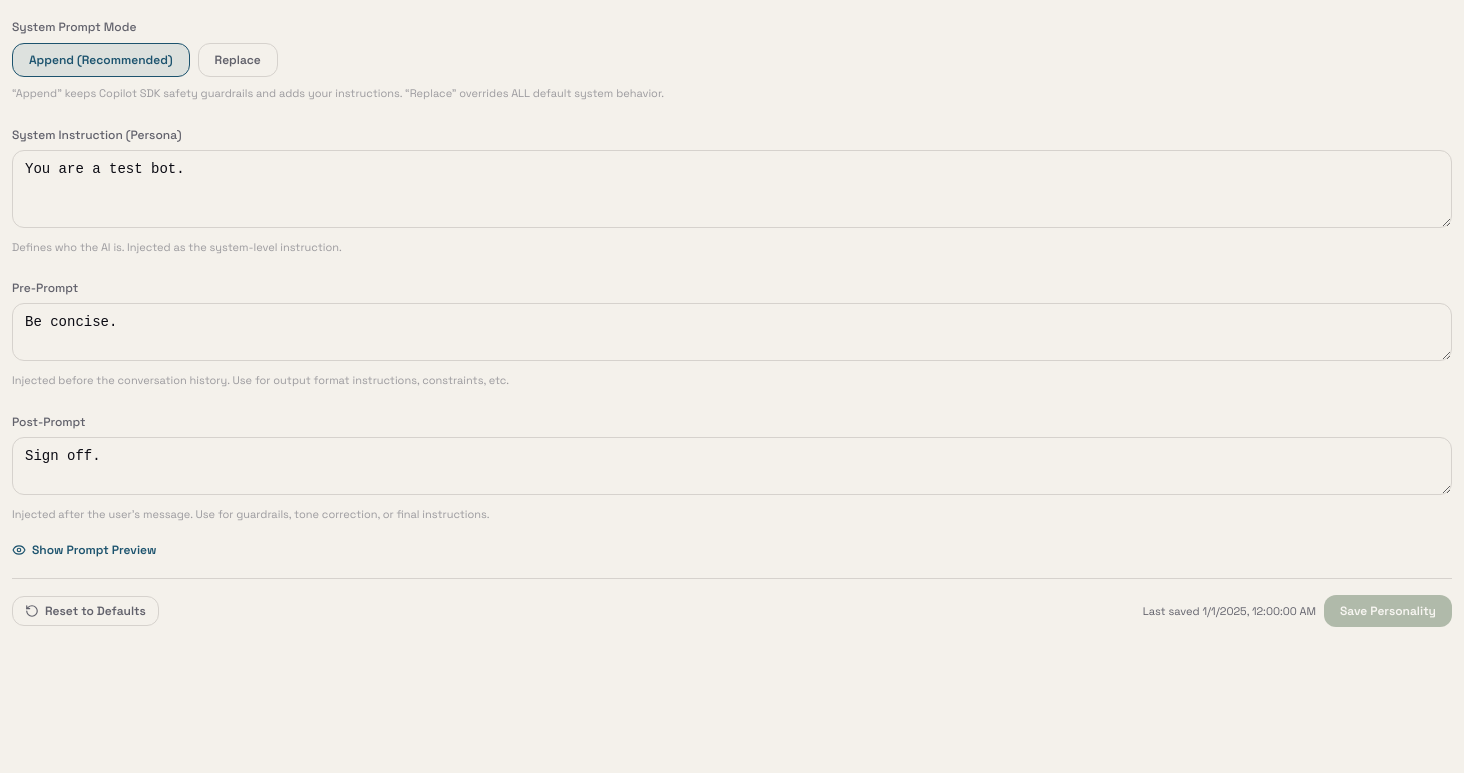
Test: PersonalityPanel › shows preview with SDK guardrails header in append mode
This screenshot has width=1464, height=773.
Open preview
Click the button "Show Prompt Preview" at (84, 550), box [12,542,156,558]
(page scrolled)
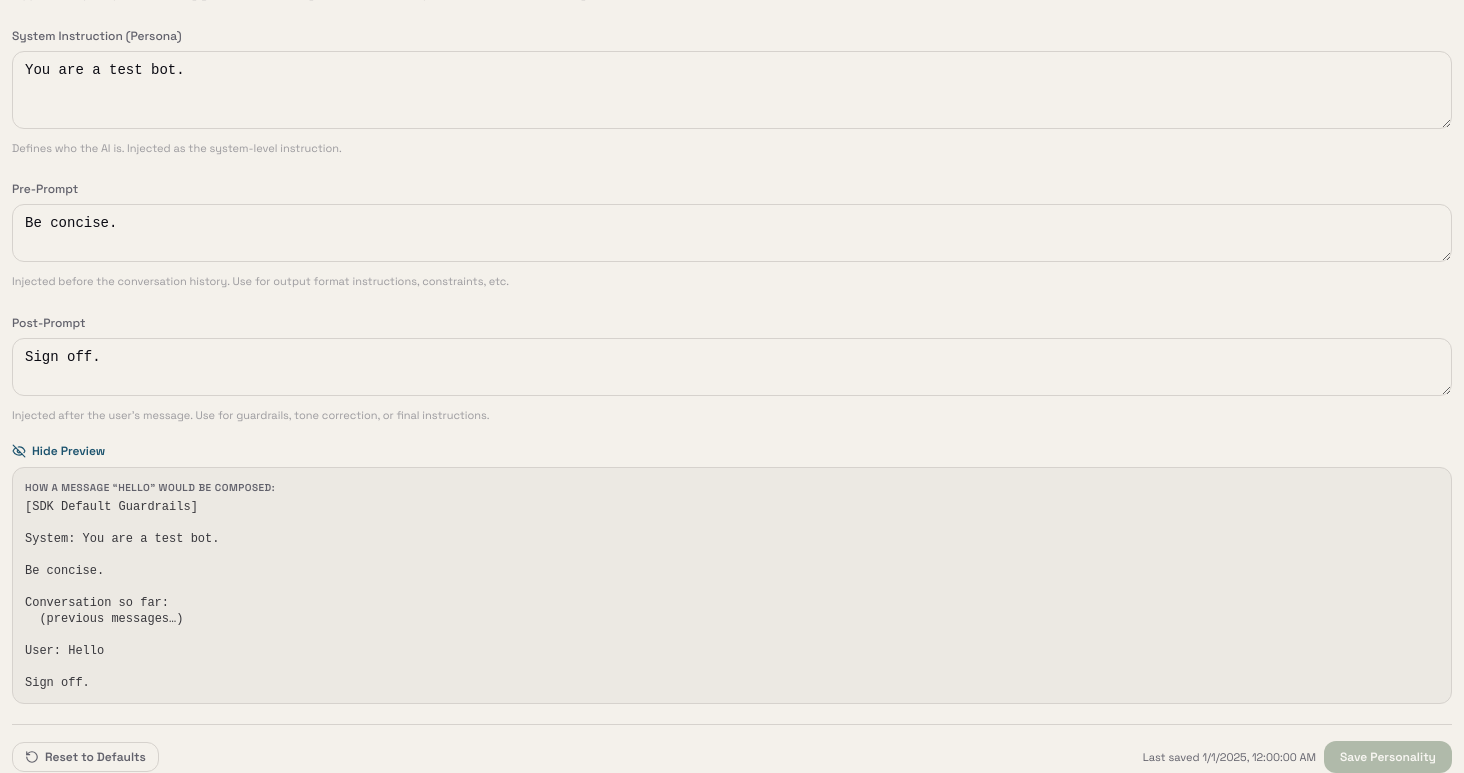
Expected: the text "How a message “Hello” would be composed:" is shown, [25,481,275,494]
Expected: the text "SDK Default Guardrails" is shown, [25,500,219,690]
